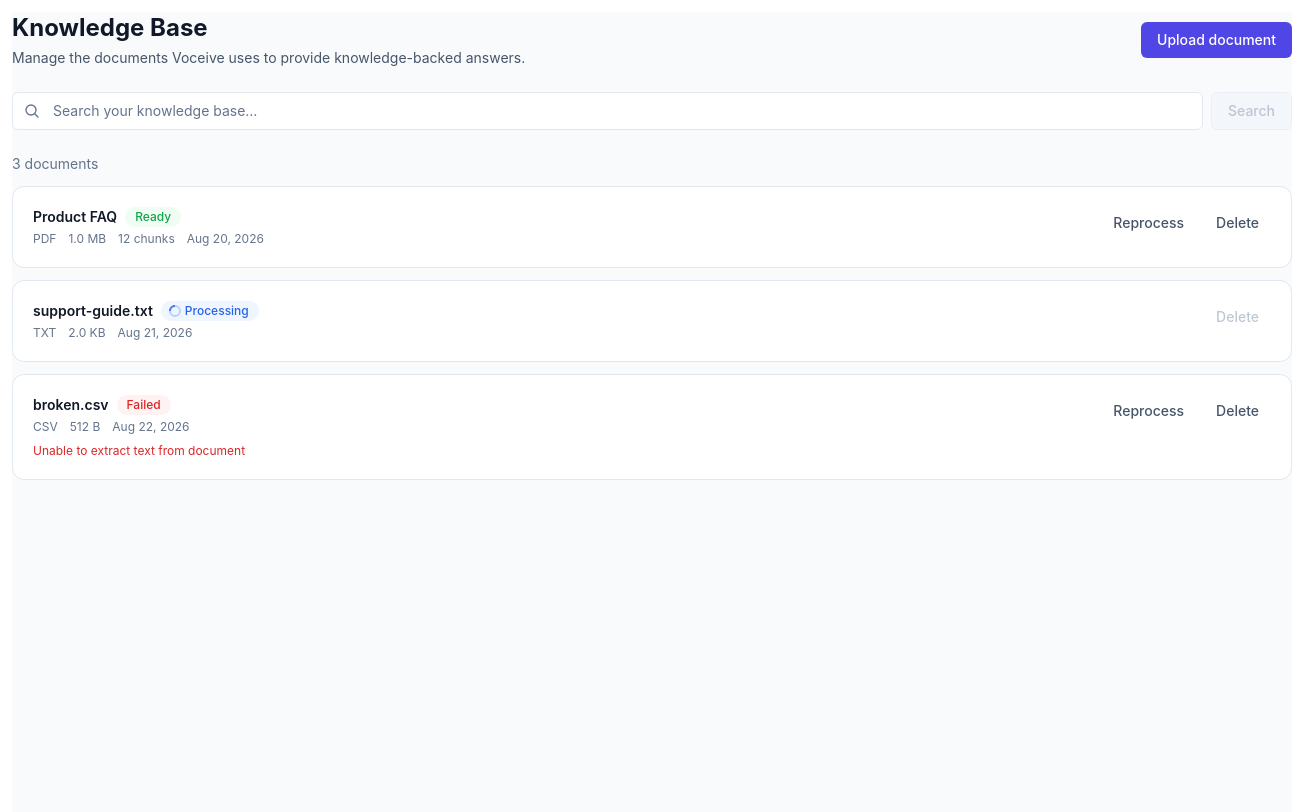
KnowledgeBasePage › shows upload area when Upload document button clicked
The image size is (1304, 812).
Click the button "Upload document" at (1217, 40), box [1141,22,1292,58]
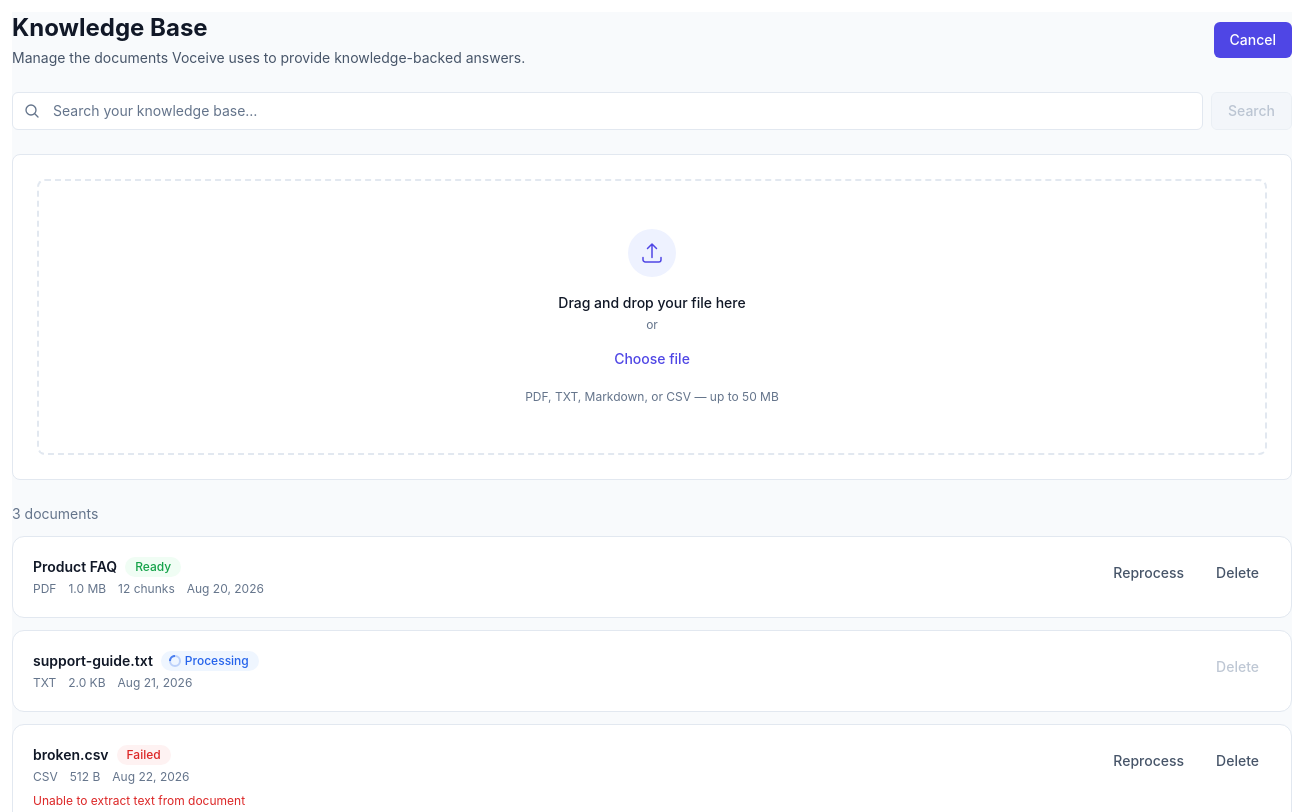
Expected: the text "Drag and drop your file here" is shown, [558,294,746,311]
